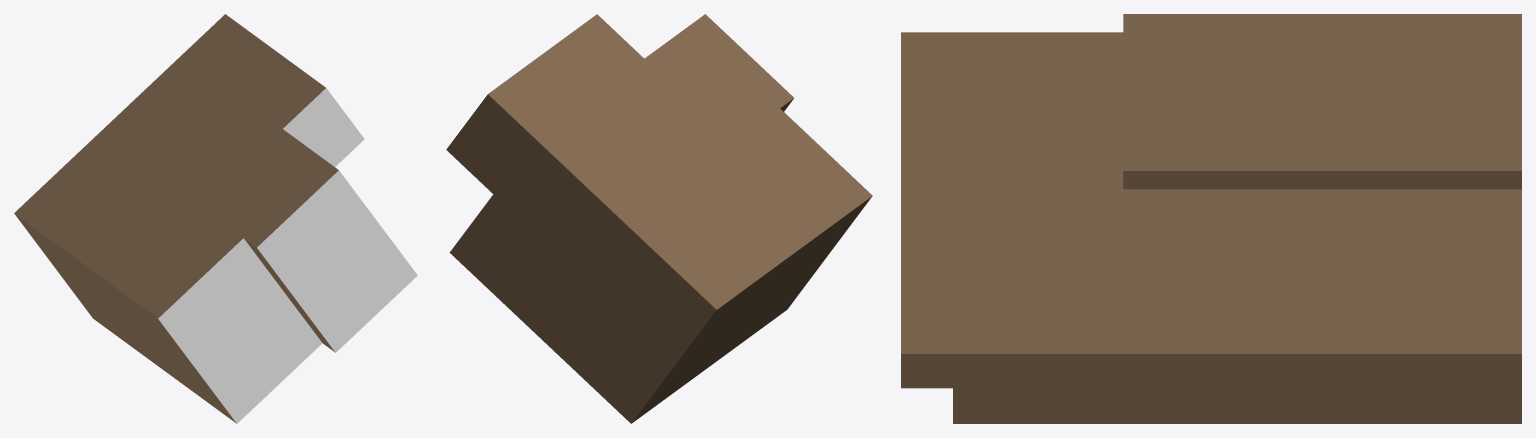
The picture shows the model from 3 angles, left to right: view 1: azimuth 30°, elevation 25°; view 2: azimuth 150°, elevation 25°; view 3: azimuth 270°, elevation 25°; orthographic projection. The views are drawn at different scales.
Parts seen in each view (by area): view 1: City_PC-08604; view 2: City_PC-08604; view 3: City_PC-08604.
Part boxes in pixels (x1,y1,x2,y2): City_PC-08604: [14, 14, 417, 423]; City_PC-08604: [446, 14, 872, 423]; City_PC-08604: [901, 14, 1521, 423].
Bounding box in the file's own units: 1368 × 1424 × 1491.
